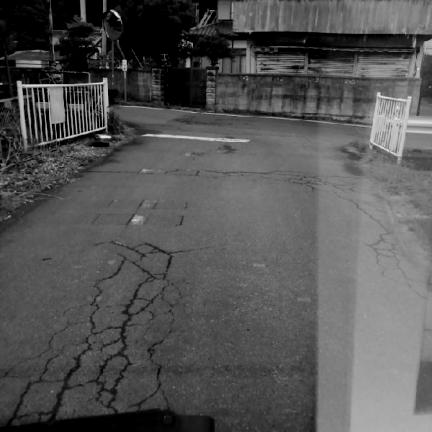Road: (0, 108, 426, 431)
